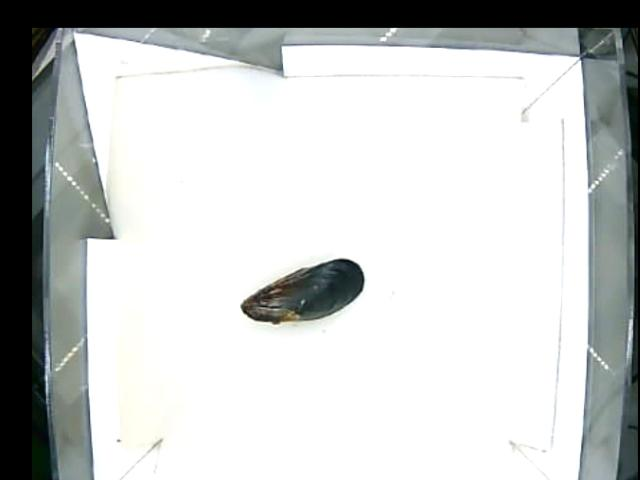Shell: (240, 258, 365, 325)
